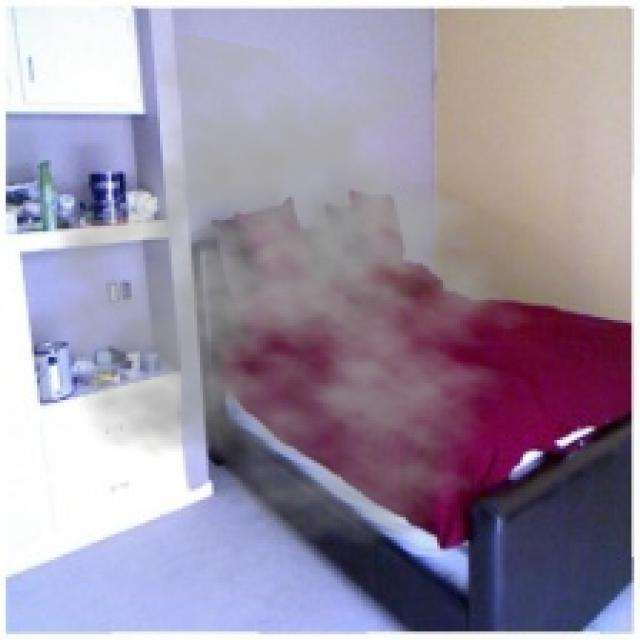Smoke: (26, 29, 554, 548)
